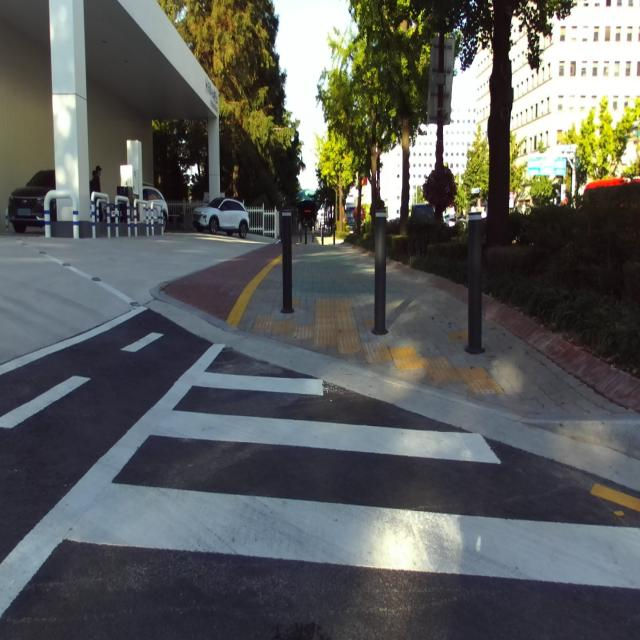횡단보도: (63, 372, 640, 590)
